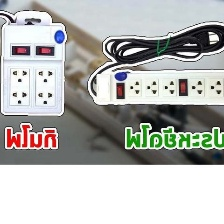three_eye_plug: (0, 20, 70, 117), (93, 69, 223, 105)
